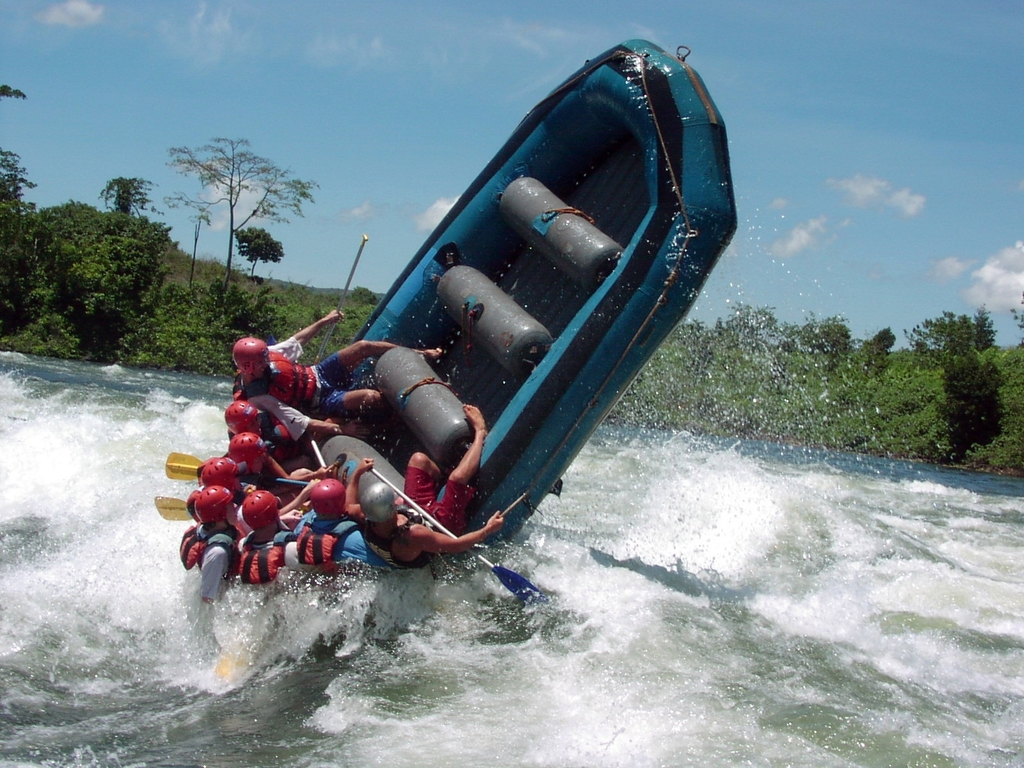Human_hand: (488, 510, 505, 535), (361, 457, 373, 473)
